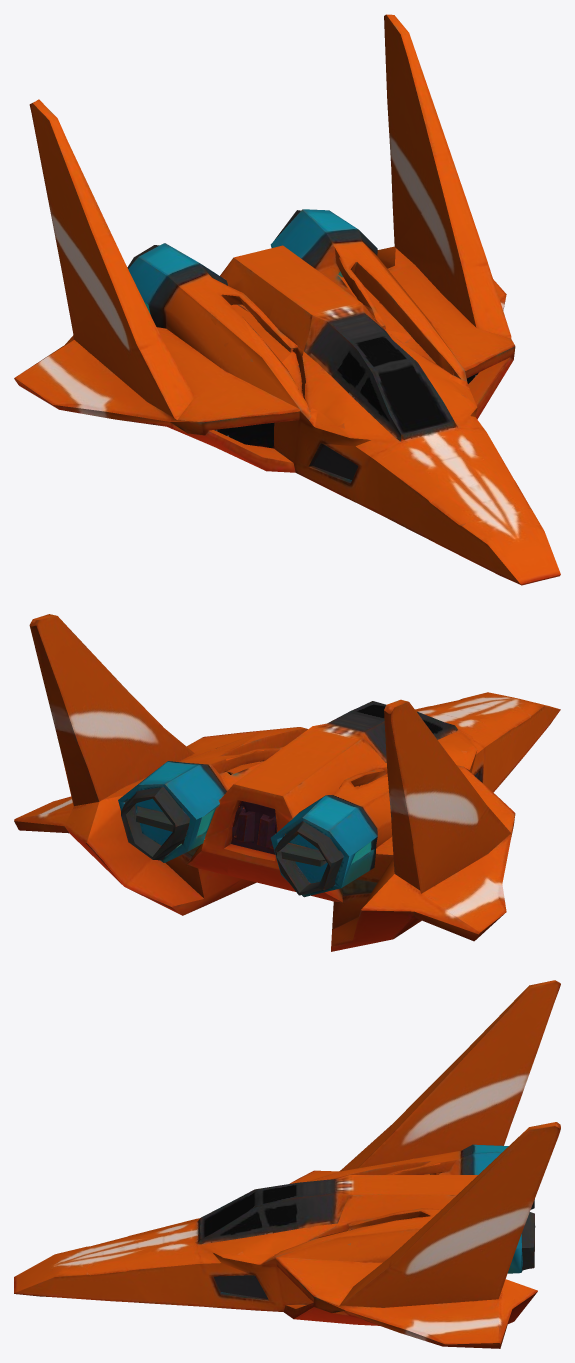
Rendered from nave_17.obj.
The picture shows the model from 3 angles, top to bottom: view 1: azimuth 30°, elevation 25°; view 2: azimuth 150°, elevation 25°; view 3: azimuth 270°, elevation 25°; orthographic projection. The views are drawn at different scales.
Parts seen in each view (by area): view 1: geometry_0; view 2: geometry_0; view 3: geometry_0.
Part boxes in pixels (bbox=[...]): geometry_0: bbox=[14, 14, 560, 585]; geometry_0: bbox=[14, 614, 560, 951]; geometry_0: bbox=[14, 980, 560, 1348].
Bounding box in the file's own units: 5.68 × 3.54 × 7.
1 material, 1 textured.
